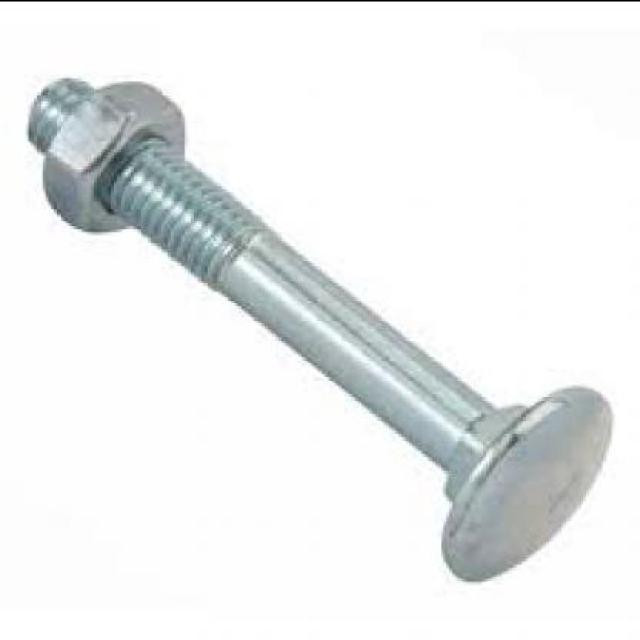METAL: (29, 77, 617, 583), (46, 82, 185, 236)
